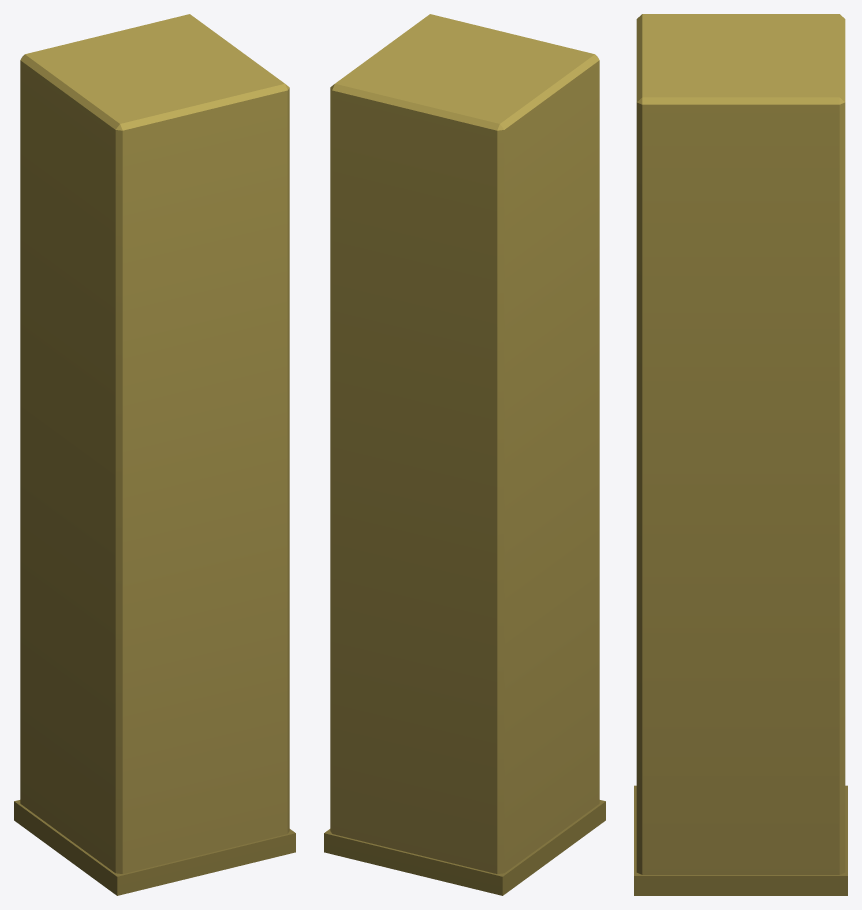
Rendered from BR_Pillar.glb.
3 views of the same model, side by side, from view 1: azimuth 30°, elevation 25°; view 2: azimuth 150°, elevation 25°; view 3: azimuth 270°, elevation 25° (orthographic). The views are drawn at different scales.
Visible parts, largest first — view 1: BR_Pillar__Body; view 2: BR_Pillar__Body; view 3: BR_Pillar__Body.
Part boxes in pixels (x1,y1,x2,y2): BR_Pillar__Body: [14, 14, 295, 895]; BR_Pillar__Body: [324, 14, 605, 895]; BR_Pillar__Body: [634, 14, 847, 895].
Size of the model in its own units: 3.9 by 16 by 3.9.
